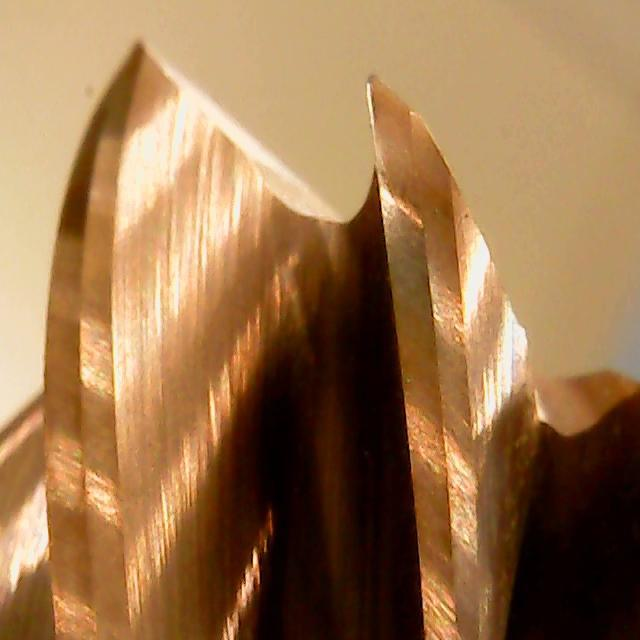Tool-wear-class-0: (352, 72, 484, 453)
